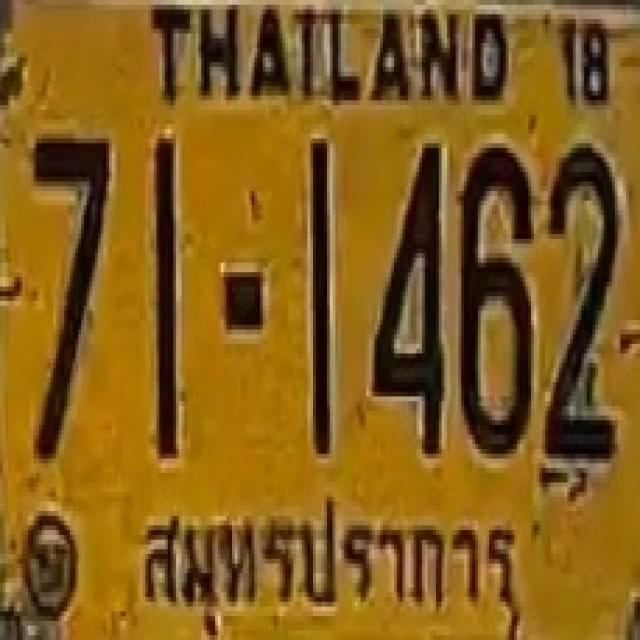1: (152, 136, 175, 456), (310, 136, 330, 451)
2: (544, 143, 619, 468)
4: (370, 138, 443, 449)
6: (458, 143, 531, 454)
7: (31, 134, 109, 458)
SPK: (134, 495, 513, 637)
